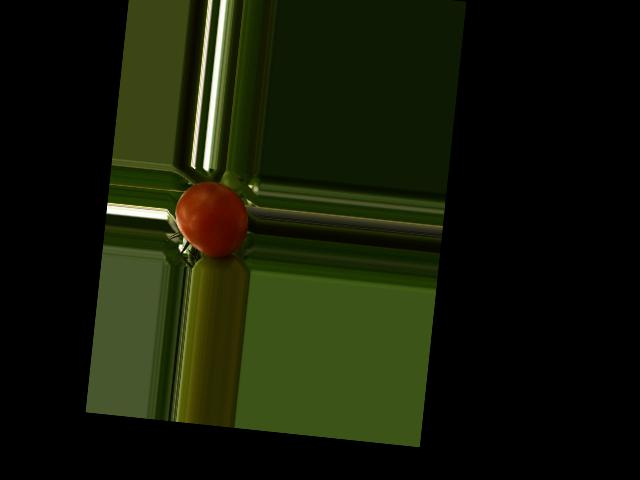tomato: (170, 178, 252, 260)
